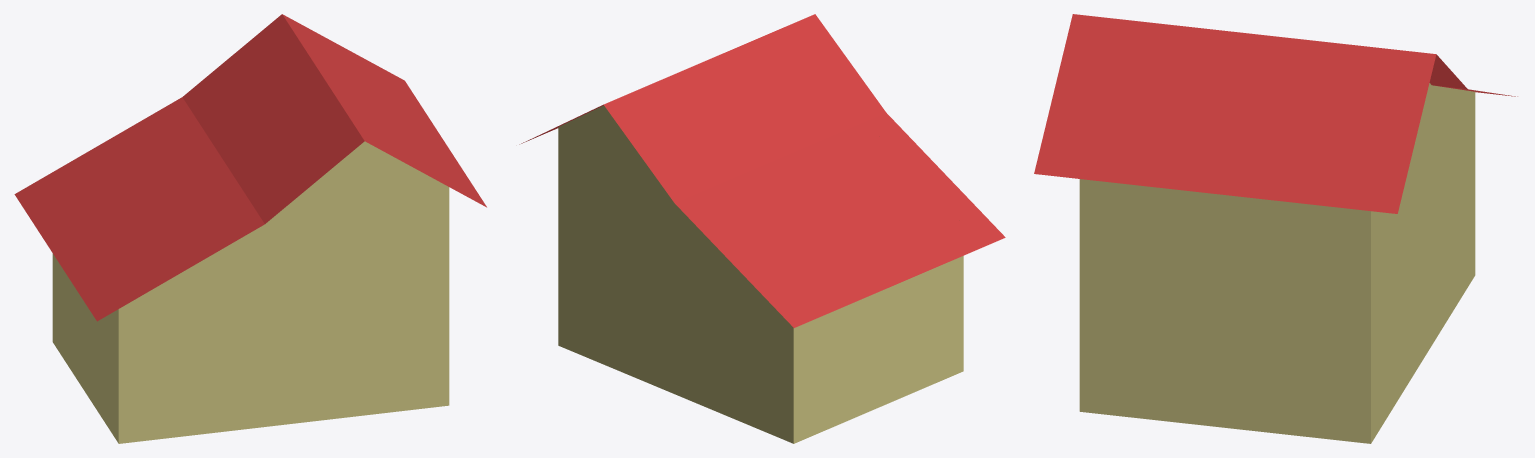
3 views of the same model, side by side, from view 1: azimuth 30°, elevation 25°; view 2: azimuth 150°, elevation 25°; view 3: azimuth 270°, elevation 25° (orthographic). The views are drawn at different scales.
Size of the model in its own units: 15.17 by 13.04 by 10.24.
